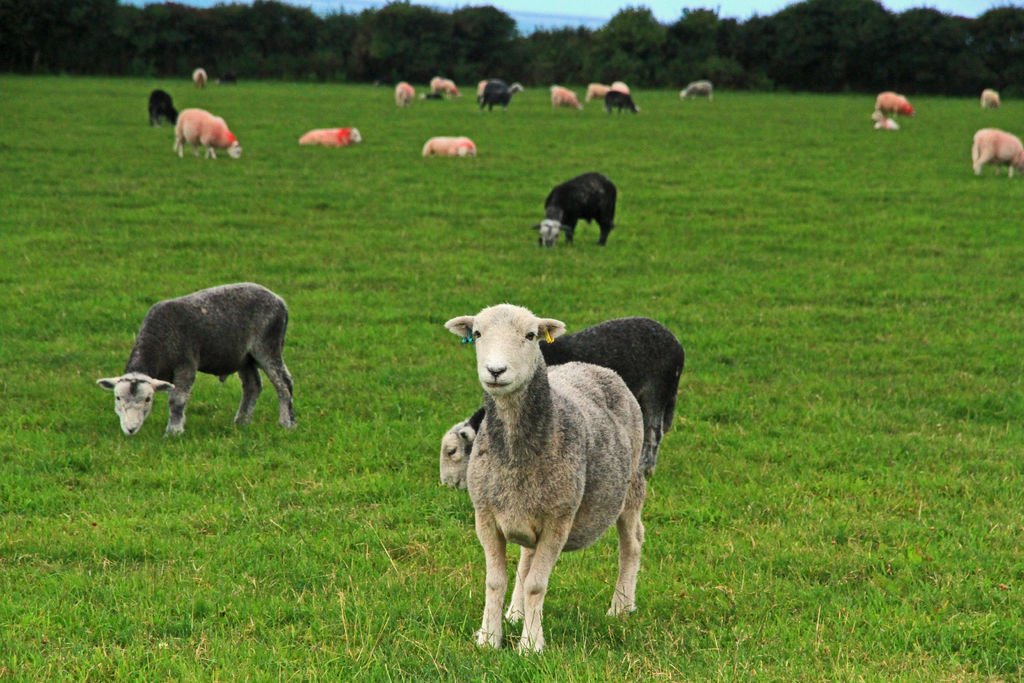sheep: (94, 284, 293, 442), (533, 171, 613, 247), (174, 109, 241, 158), (421, 138, 477, 160), (300, 125, 357, 145), (679, 82, 714, 103), (876, 92, 911, 112), (871, 110, 898, 130), (979, 89, 1000, 108), (193, 67, 208, 87), (217, 74, 236, 87)
